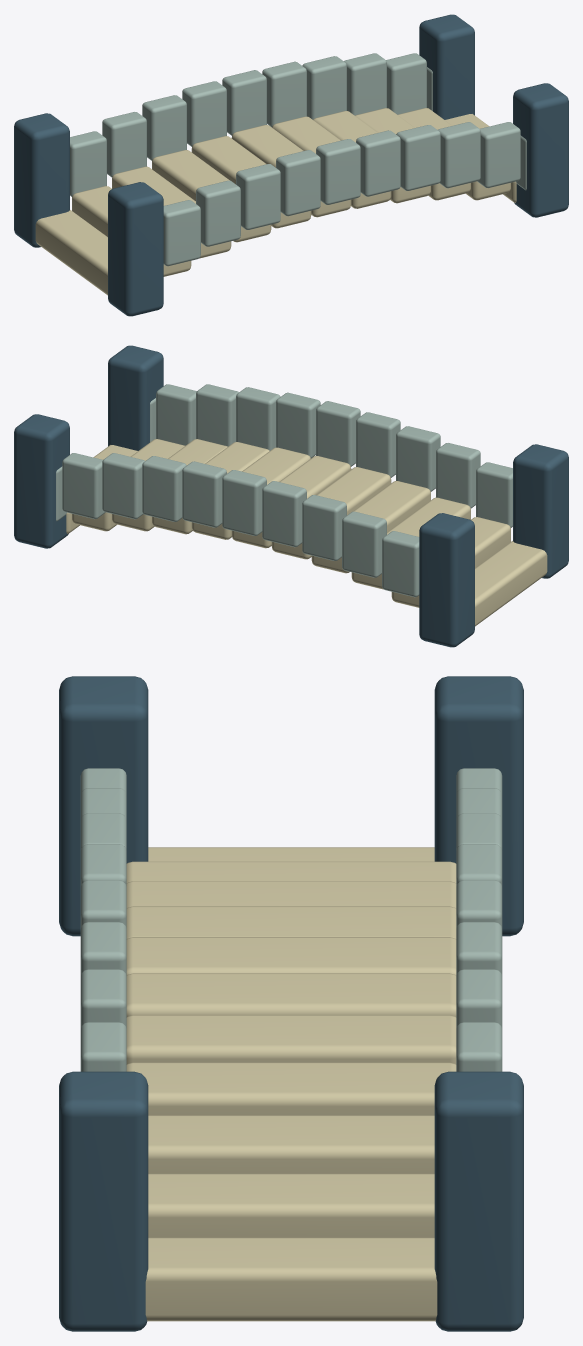
Rendered from stone_bridge.glb.
3 views of the same model, one above another, from view 1: azimuth 30°, elevation 25°; view 2: azimuth 150°, elevation 25°; view 3: azimuth 270°, elevation 25° (orthographic). The views are drawn at different scales.
Visible parts, largest first — view 1: bridge_endpost, bridge_endpost.002, bridge_endpost.001, bridge_endpost.003, bridge_step, bridge_rail_block.008, bridge_rail_block.004, bridge_rail_block.010, bridge_rail_block.012, bridge_rail_block.006, bridge_rail_block.014, bridge_rail_block.016 (+21 smaller); view 2: bridge_endpost.001, bridge_endpost.003, bridge_endpost, bridge_endpost.002, bridge_step, bridge_rail_block.009, bridge_rail_block.005, bridge_rail_block.011, bridge_rail_block.013, bridge_rail_block.007, bridge_rail_block.015, bridge_rail_block.017 (+21 smaller); view 3: bridge_step.010, bridge_endpost.002, bridge_endpost.003, bridge_step.009, bridge_step.008, bridge_step.007, bridge_step.006, bridge_step.005, bridge_endpost, bridge_endpost.001, bridge_step.004, bridge_step.003 (+19 smaller).
Boxes of the visible parts, bbox=[...] form: bridge_endpost: bbox=[108, 182, 163, 316]; bridge_endpost.002: bbox=[513, 83, 568, 217]; bridge_endpost.001: bbox=[14, 113, 69, 247]; bridge_endpost.003: bbox=[419, 14, 474, 119]; bridge_step: bbox=[35, 210, 107, 295]; bridge_rail_block.008: bbox=[276, 150, 320, 216]; bridge_rail_block.004: bbox=[196, 180, 240, 246]; bridge_rail_block.010: bbox=[316, 139, 360, 204]; bridge_rail_block.012: bbox=[356, 130, 400, 196]; bridge_rail_block.006: bbox=[236, 164, 280, 229]; bridge_rail_block.014: bbox=[396, 125, 440, 190]; bridge_rail_block.016: bbox=[438, 122, 480, 188]; bridge_endpost.001: bbox=[419, 513, 474, 647]; bridge_endpost.003: bbox=[14, 414, 69, 548]; bridge_endpost: bbox=[513, 444, 568, 578]; bridge_endpost.002: bbox=[108, 345, 163, 450]; bridge_step: bbox=[475, 541, 547, 626]; bridge_rail_block.009: bbox=[262, 481, 306, 547]; bridge_rail_block.005: bbox=[342, 511, 386, 577]; bridge_rail_block.011: bbox=[222, 470, 266, 535]; bridge_rail_block.013: bbox=[182, 461, 226, 527]; bridge_rail_block.007: bbox=[302, 495, 346, 560]; bridge_rail_block.015: bbox=[142, 456, 186, 521]; bridge_rail_block.017: bbox=[102, 453, 144, 519]; bridge_step.010: bbox=[145, 1237, 437, 1321]; bridge_endpost.002: bbox=[59, 1071, 148, 1331]; bridge_endpost.003: bbox=[434, 1071, 523, 1331]; bridge_step.009: bbox=[148, 1173, 434, 1237]; bridge_step.008: bbox=[148, 1115, 434, 1173]; bridge_step.007: bbox=[126, 1062, 456, 1115]; bridge_step.006: bbox=[126, 1015, 456, 1064]; bridge_step.005: bbox=[126, 973, 456, 1016]; bridge_endpost: bbox=[59, 676, 148, 936]; bridge_endpost.001: bbox=[434, 676, 523, 936]; bridge_step.004: bbox=[126, 937, 456, 975]; bridge_step.003: bbox=[126, 906, 456, 938].
Size of the model in its own units: 3.33 by 0.83 by 1.51.
